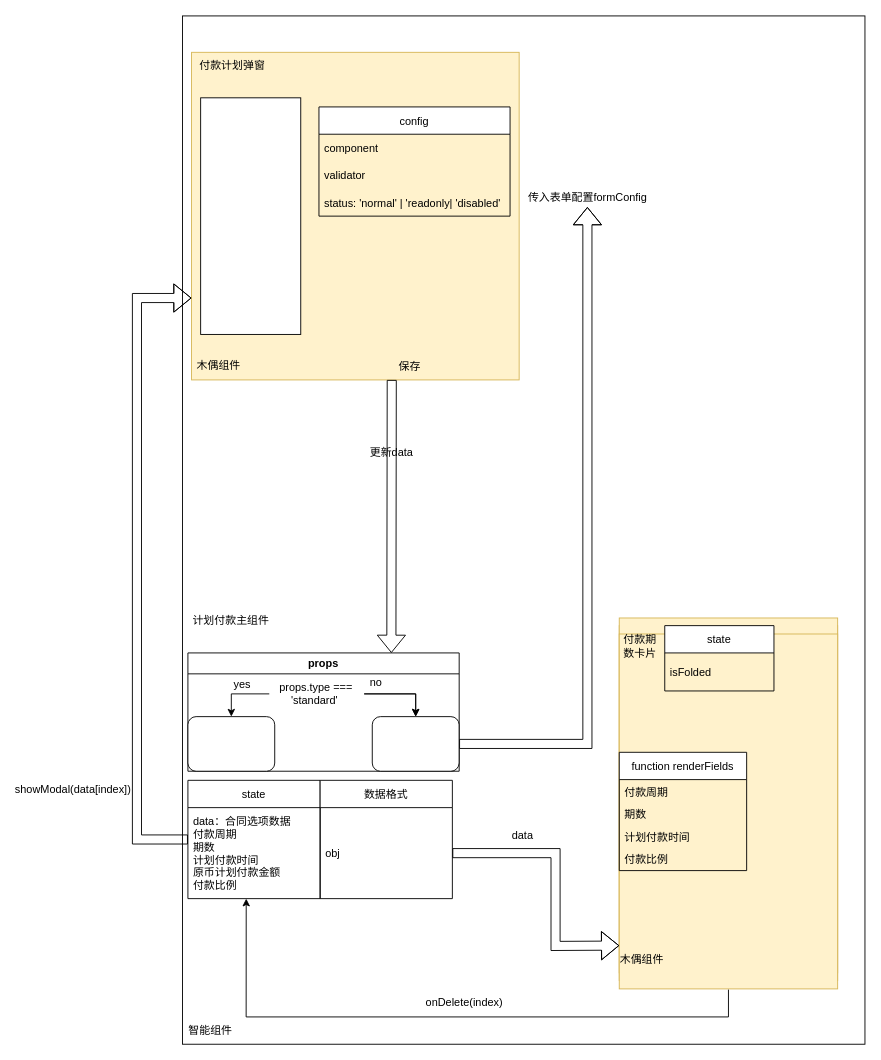
Image size: 881x1060. Some labels were removed from this diagram. Here are the shapes that lost their labels. From the top down, the centre of each, then its label:
At point 250,215: "表单".
At point 231,743: "标准合同config".
At point 415,743: "框架协议config".
